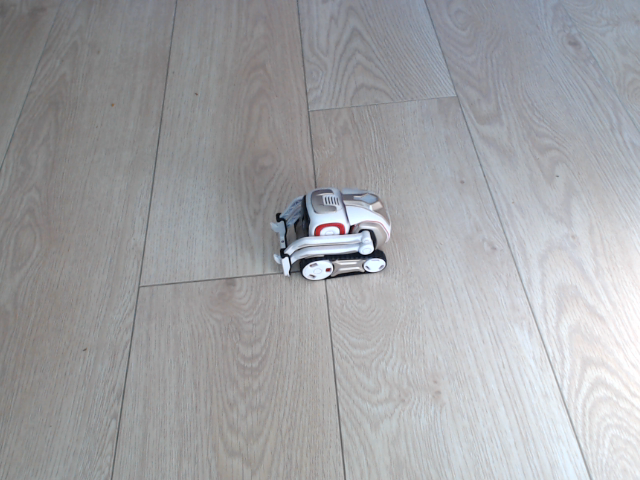cozmo: (268, 187, 395, 281)
